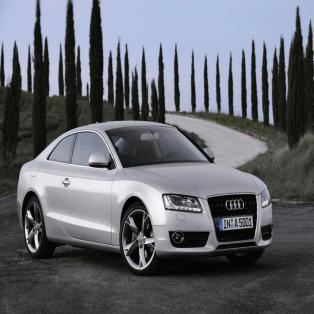Auto: (16, 119, 274, 278)
